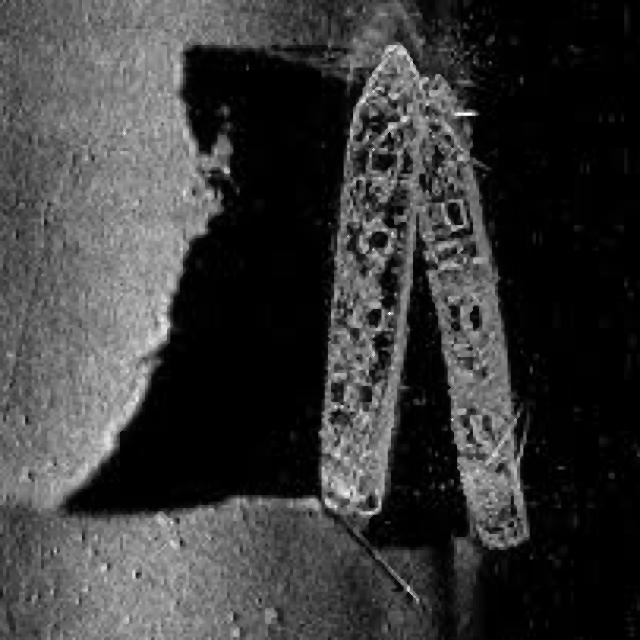Ship: (408, 20, 534, 556), (310, 34, 425, 526)
